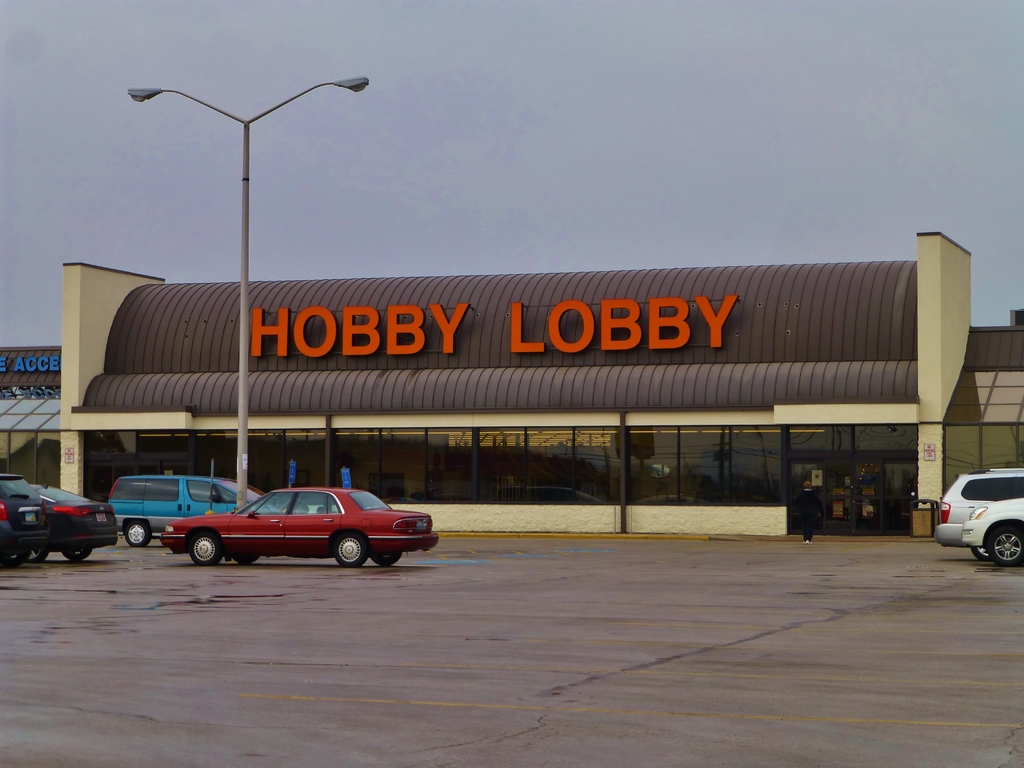Car: (159, 483, 440, 561), (109, 476, 286, 544), (27, 478, 122, 560), (937, 469, 1014, 558), (0, 469, 53, 563), (958, 497, 1023, 563)
